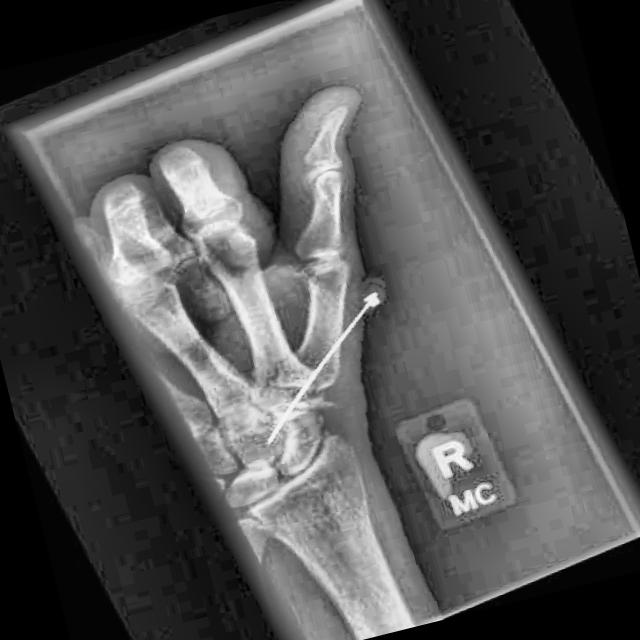fingers positive: (248, 347, 297, 396)
